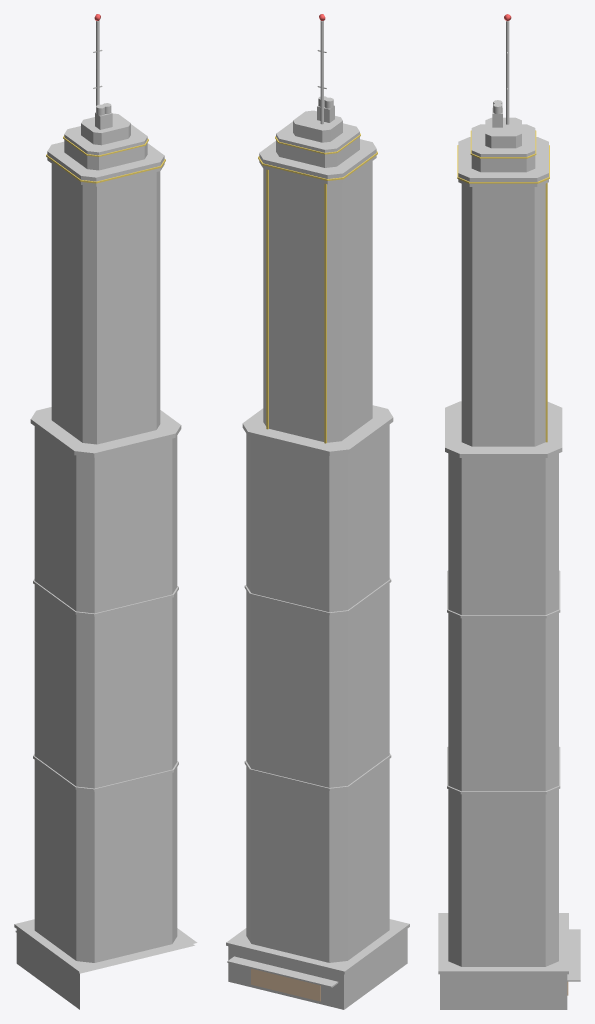
The model's file is NightTowerB.glb.
3 renders of one model, left to right at view 1: azimuth 30°, elevation 25°; view 2: azimuth 150°, elevation 25°; view 3: azimuth 270°, elevation 25°, orthographic.
Parts seen in each view (by area): view 1: Body, Glow; view 2: Body, Glow, Warm; view 3: Body, Glow.
Part boxes in pixels (bbox=[...]): Body: bbox=[14, 20, 197, 1009]; Glow: bbox=[46, 135, 165, 183]; Body: bbox=[226, 21, 409, 1009]; Glow: bbox=[258, 133, 377, 443]; Warm: bbox=[251, 968, 320, 1001]; Body: bbox=[438, 20, 580, 1009]; Glow: bbox=[457, 130, 549, 442].
Bounding box in the file's own units: 41 × 318 × 42.5.
